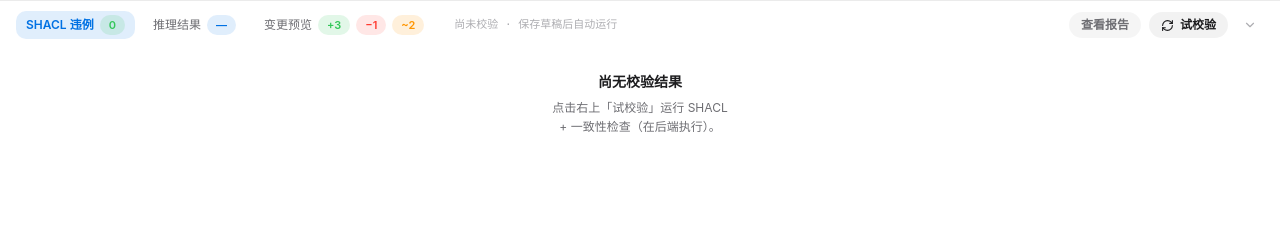
it: V4.3 ChangesetPreview 真实化（41 篇 §2） › ⑥ pending 层真实行：新建类（refOnly 不计）/ 属性边 / 层级边 / 标记删除 + mod 真实计数
The width and height of the screenshot is (1280, 237).
Click the button "变更预览 +3 −1 ~2": (344, 25) left=254, top=11, right=434, bottom=39
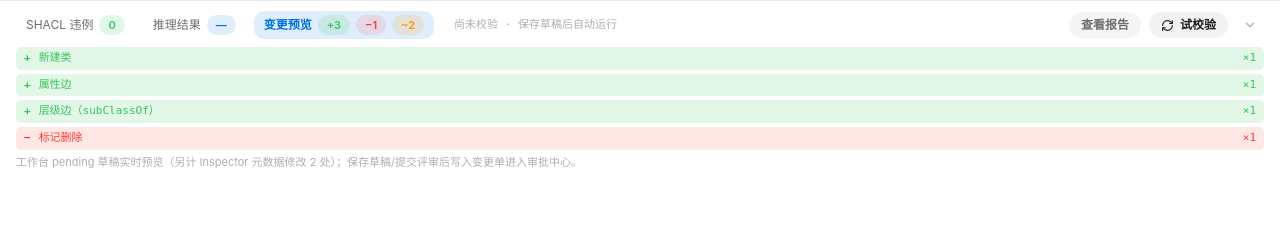
Result: the element with test id "preview-row-新建类" shows "×1" at left=16, top=47, right=1264, bottom=70
Result: the element with test id "preview-row-属性边" shows "×1" at left=16, top=74, right=1264, bottom=96
Result: the element with test id "preview-row-层级边（subClassOf）" shows "×1" at left=16, top=100, right=1264, bottom=123
